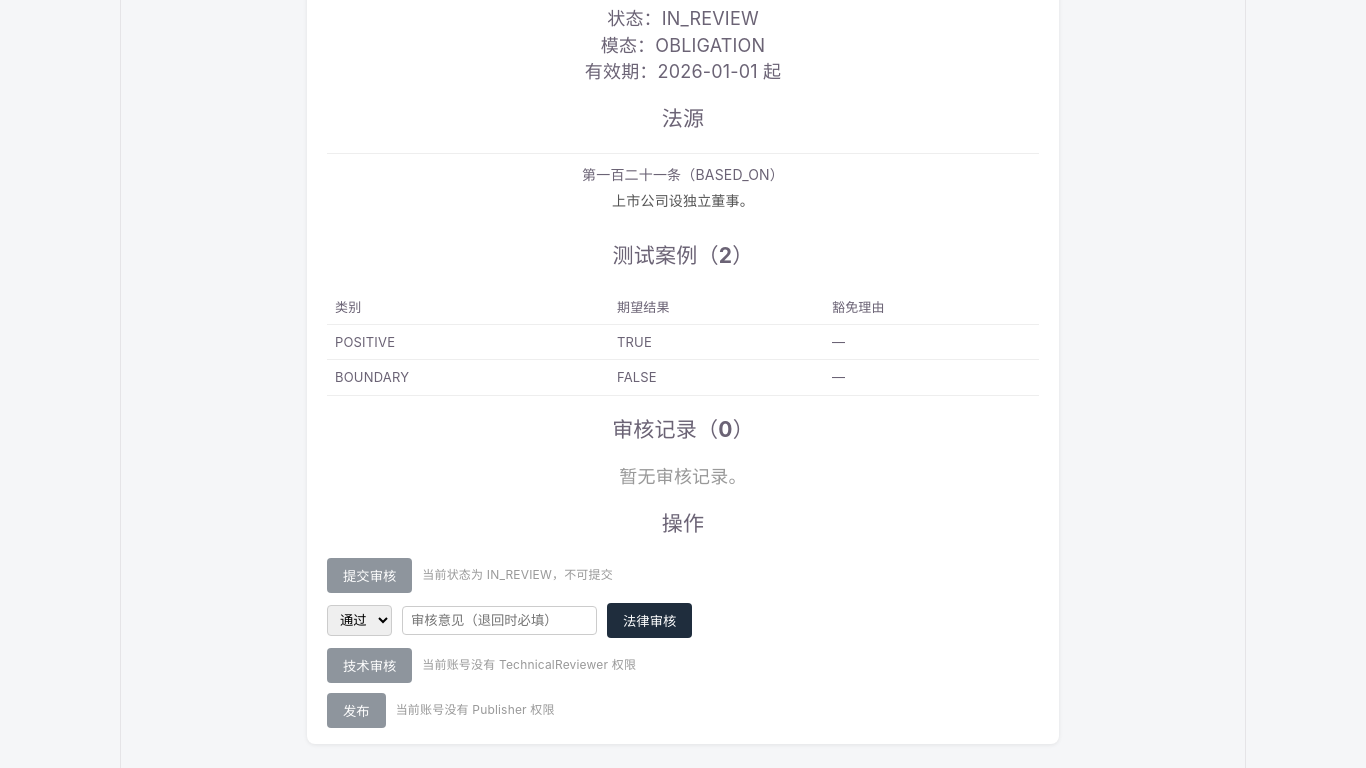
Scenario: RuleDetailView › gates actions by status: IN_REVIEW allows only the legal review, which posts LEGAL
The image size is (1366, 768).
(page scrolled)
Expected: the button "提交审核" is disabled, [327,558,412,593]
Click the button "法律审核".
click(650, 620)  # box [607,603,692,638]
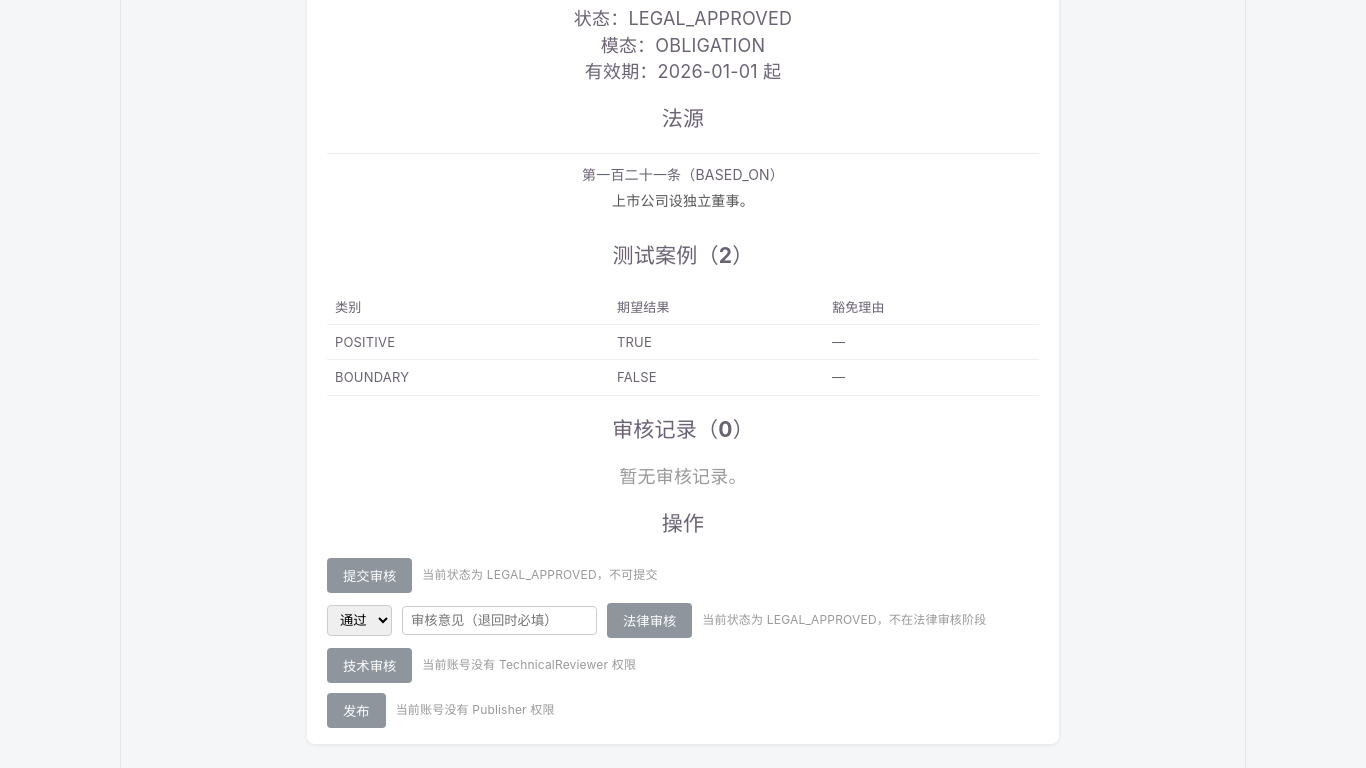
Expected: the text "状态：LEGAL_APPROVED" is shown, [574,8,792,29]
